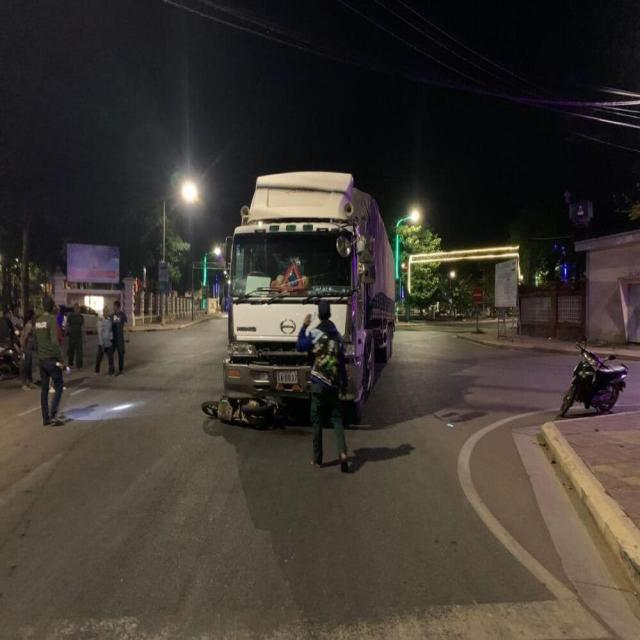Preah_Sihanouk: (282, 371, 292, 375)
